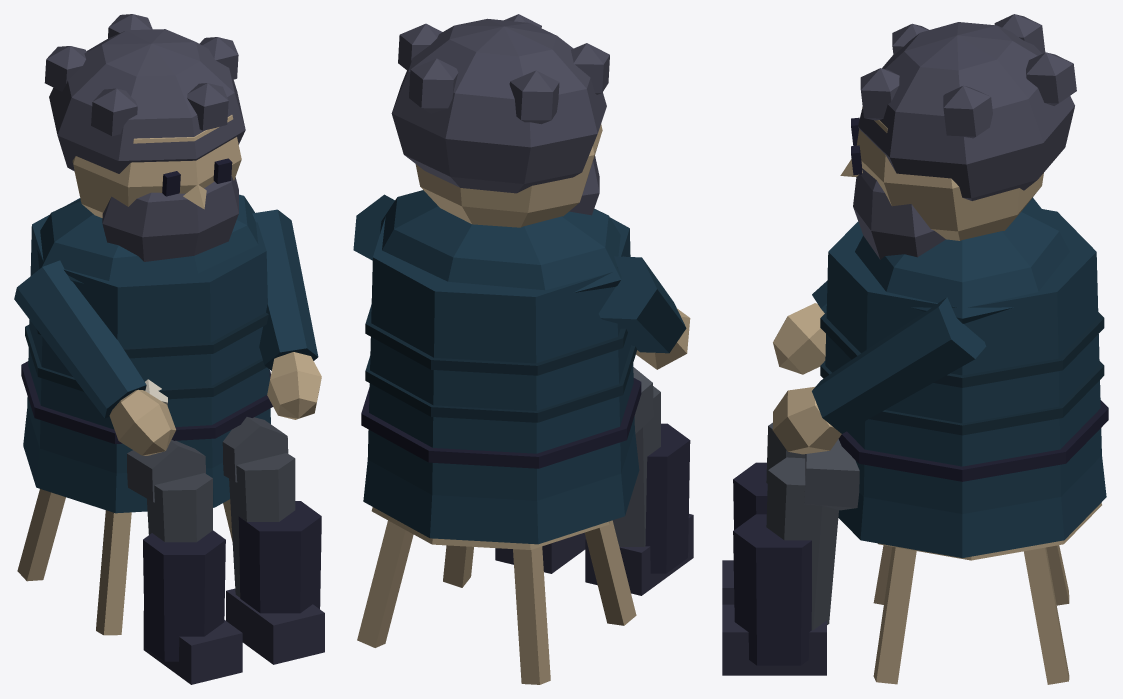
Rendered from dunstan_home.glb.
3 renders of one model, left to right at view 1: azimuth 30°, elevation 25°; view 2: azimuth 150°, elevation 25°; view 3: azimuth 270°, elevation 25°, orthographic. The views are drawn at different scales.
Visible parts, largest first — view 1: Torso, Head, LegL, LegR, ArmR, ArmL, Stool; view 2: Torso, Head, Stool, LegR, ArmR, ArmL, LegL; view 3: Torso, Head, LegL, ArmL, Stool, ArmR, LegR.
Part boxes in pixels (x1=…): Torso: x1=21, y1=194, x2=272, y2=513; Head: x1=44, y1=14, x2=245, y2=261; LegL: x1=222, y1=417, x2=324, y2=664; LegR: x1=127, y1=440, x2=242, y2=684; ArmR: x1=14, y1=260, x2=175, y2=455; ArmL: x1=145, y1=209, x2=321, y2=419; Stool: x1=17, y1=489, x2=232, y2=635; Torso: x1=361, y1=190, x2=641, y2=544; Head: x1=391, y1=14, x2=609, y2=227; Stool: x1=357, y1=507, x2=636, y2=684; LegR: x1=585, y1=367, x2=693, y2=595; ArmR: x1=598, y1=256, x2=690, y2=369; ArmL: x1=353, y1=194, x2=394, y2=260; LegL: x1=495, y1=532, x2=585, y2=573; Torso: x1=820, y1=197, x2=1108, y2=557; Head: x1=840, y1=14, x2=1076, y2=259; LegL: x1=722, y1=439, x2=859, y2=675; ArmL: x1=772, y1=297, x2=986, y2=454; Stool: x1=873, y1=503, x2=1101, y2=684; ArmR: x1=773, y1=281, x2=827, y2=374; LegR: x1=722, y1=422, x2=805, y2=604.
Size of the model in its own units: 0.8661 by 1.66 by 0.9558.
